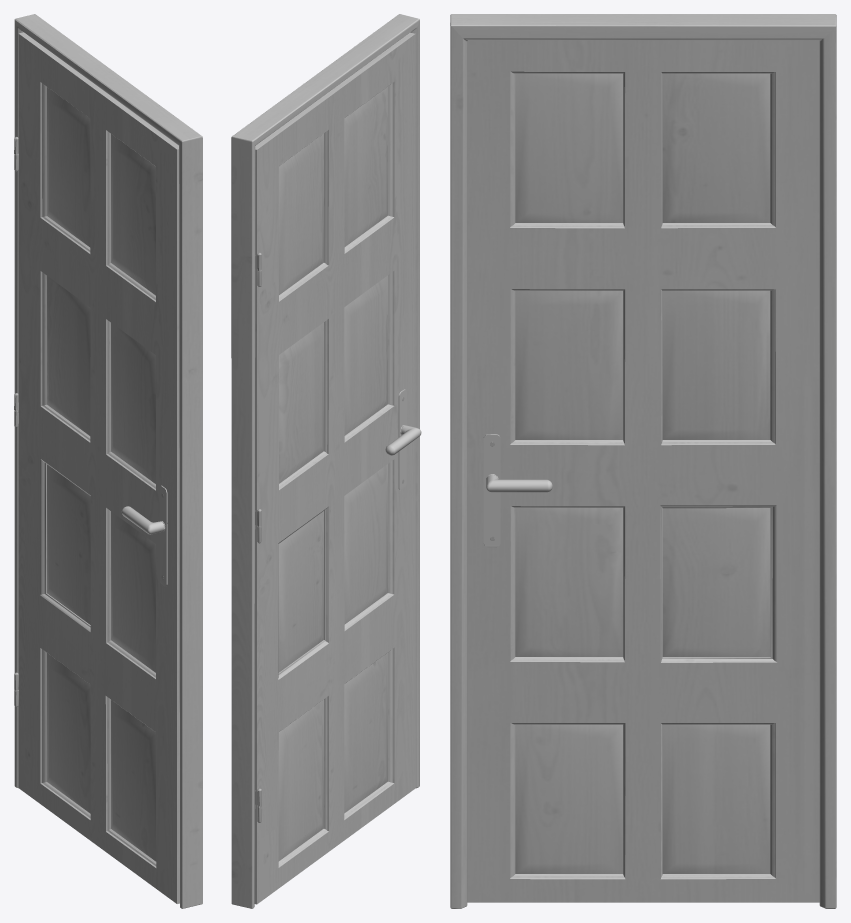
File: uploads_files_3300784_Door1_001.glb
3 renders of one model, left to right at view 1: azimuth 30°, elevation 25°; view 2: azimuth 150°, elevation 25°; view 3: azimuth 270°, elevation 25°, orthographic. The views are drawn at different scales.
Visible parts, largest first — view 1: Door1.001; view 2: Door1.001; view 3: Door1.001.
Boxes of the visible parts, x1,y1,x2,y2 form: Door1.001: (14, 14, 202, 908); Door1.001: (231, 14, 421, 908); Door1.001: (450, 14, 836, 908).
Size of the model in its own units: 2.16 by 32.08 by 12.71.
Materials: 3 (1 with a texture image).
